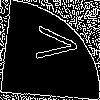V: (25, 25, 79, 63)
